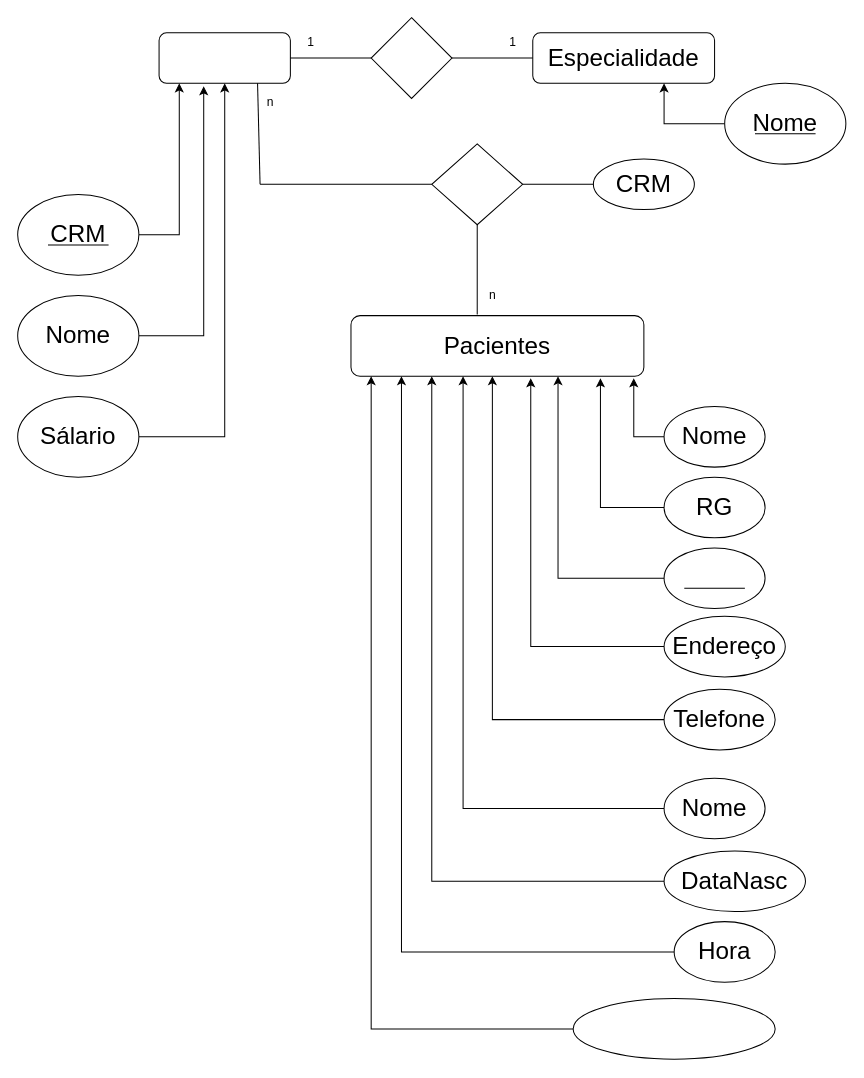
This 864x1078 diagram has some shape labels left out. The shapes that lost their labels are listed below. From the top down, each one's centre as x and y in pixels, then its label:
At pixel 224 57: "Médicos".
At pixel 411 57: "Formação".
At pixel 477 184: "Responsável".
At pixel 714 578: "CPF".
At pixel 673 1028: "Numero_Quarto".
